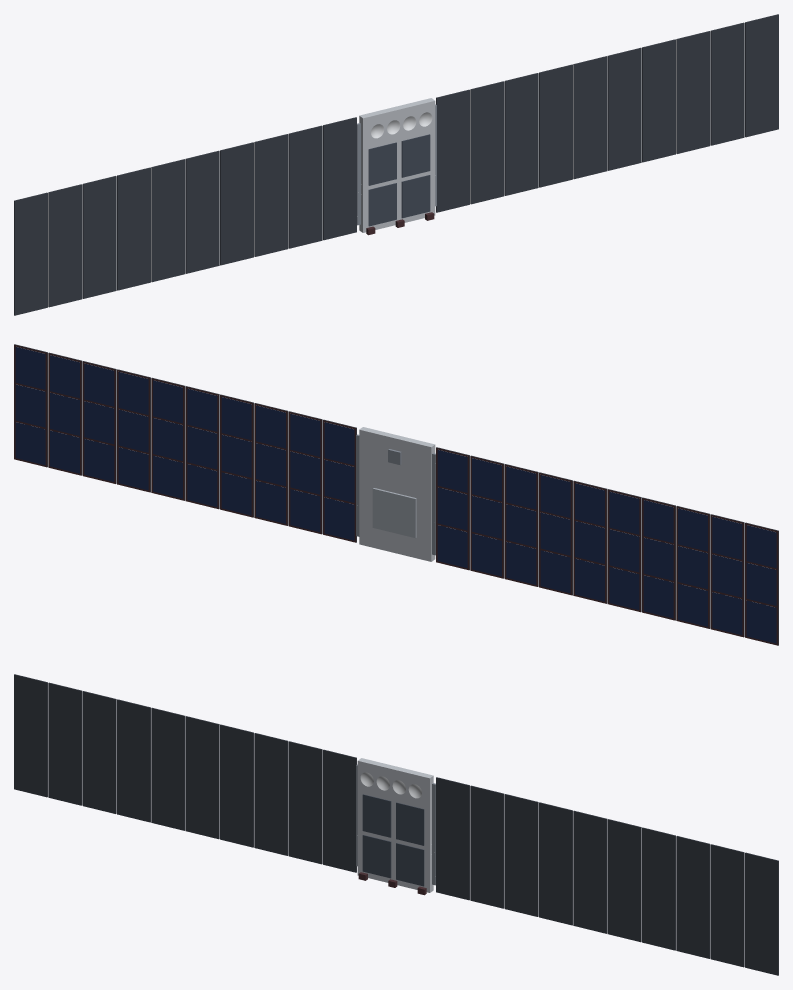
The model's file is starlink-v2mini.glb.
3 renders of one model, top to bottom at view 1: azimuth 30°, elevation 25°; view 2: azimuth 150°, elevation 25°; view 3: azimuth 330°, elevation 25°, orthographic.
Visible parts, largest first — view 1: body; view 2: solar-panel, body; view 3: body.
Boxes of the visible parts, x1,y1,x2,y2 form: body: [14, 14, 778, 315]; solar-panel: [15, 347, 776, 643]; body: [14, 344, 778, 645]; body: [14, 674, 778, 975].
Size of the model in its own units: 28.58 by 4.15 by 0.485.
